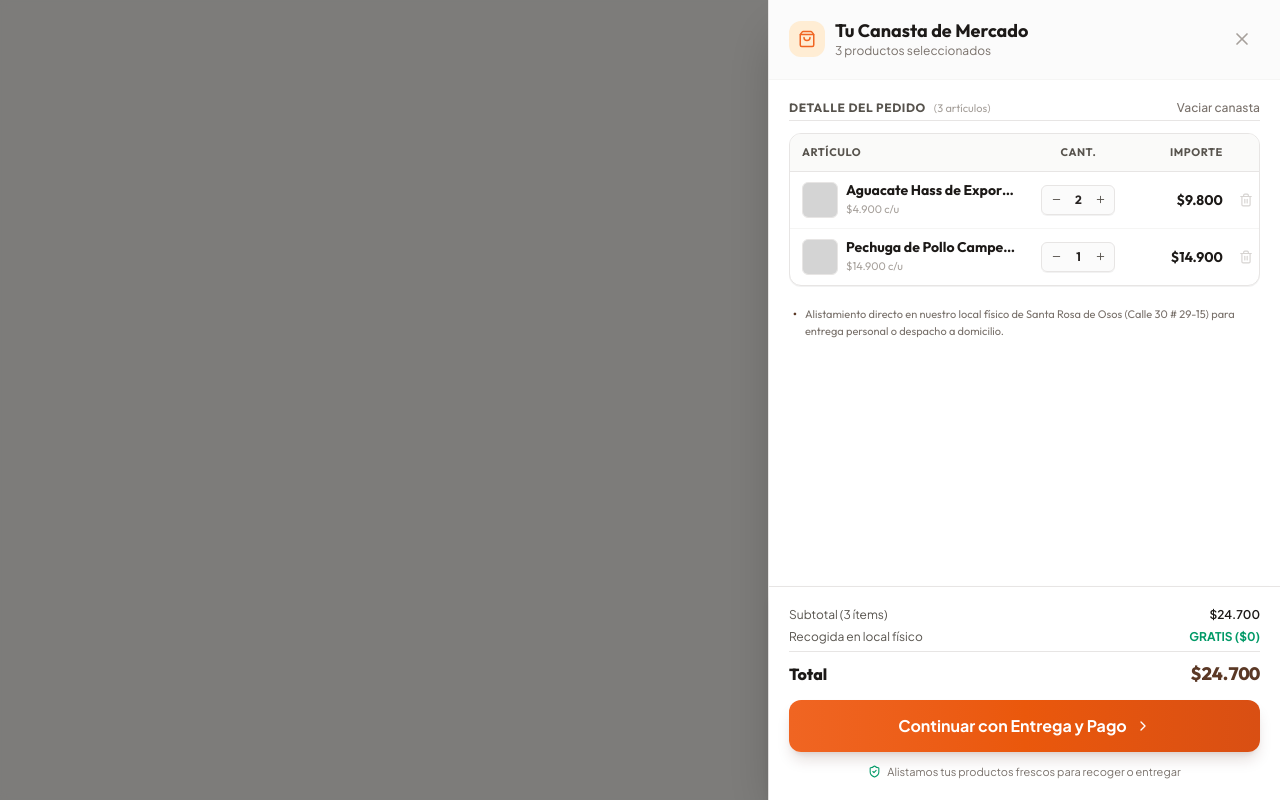
it: CheckoutDrawer Component › displays delivery onboarding modal options (Recoger en Tienda vs Domicilio) and excludes free shipping progress bar
// Advance to checkout step
Click the button "Continuar con Entrega y Pago" at (1024, 726), box [789, 700, 1260, 752]
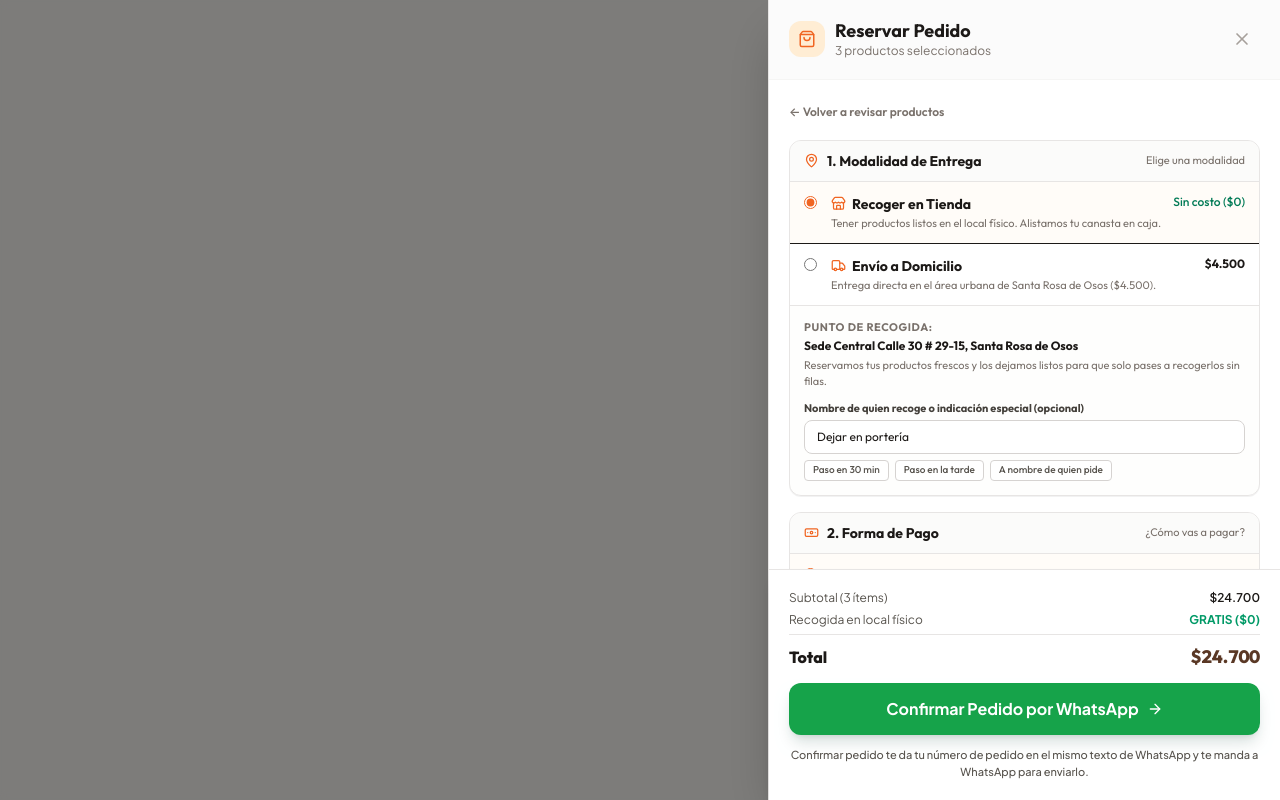
Result: the text "1. Modalidad de Entrega" is shown at [827, 150, 982, 170]
Result: the text "Recoger en Tienda" is shown at [852, 194, 971, 214]
Result: the text "Envío a Domicilio" is shown at [852, 256, 962, 276]
